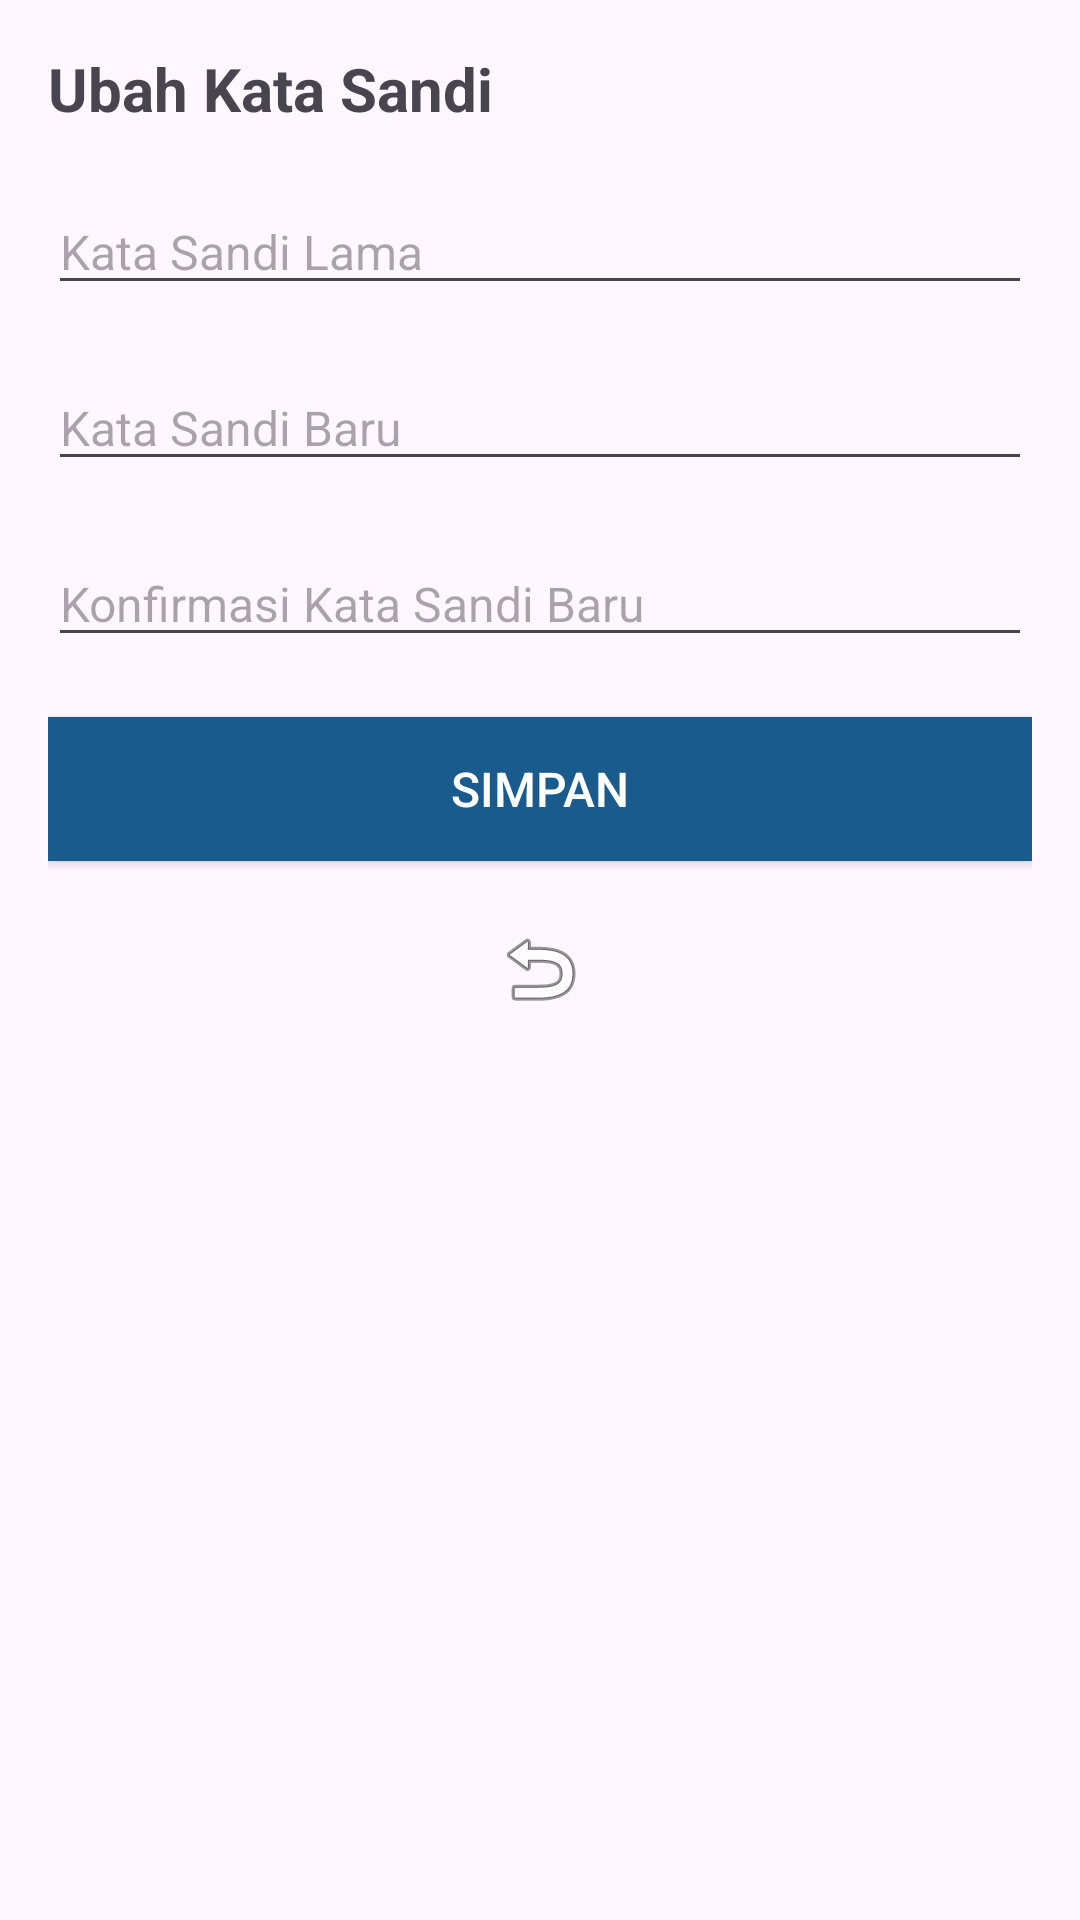

Named icons in this screenshot (1080w x 1920h) and their centers, (x,y):
Back Button: (541,969)
